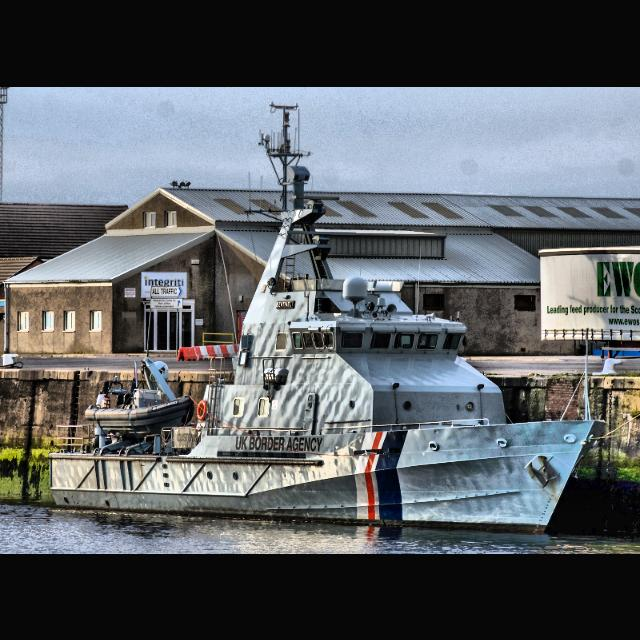patrol_vessel: (46, 162, 614, 540)
